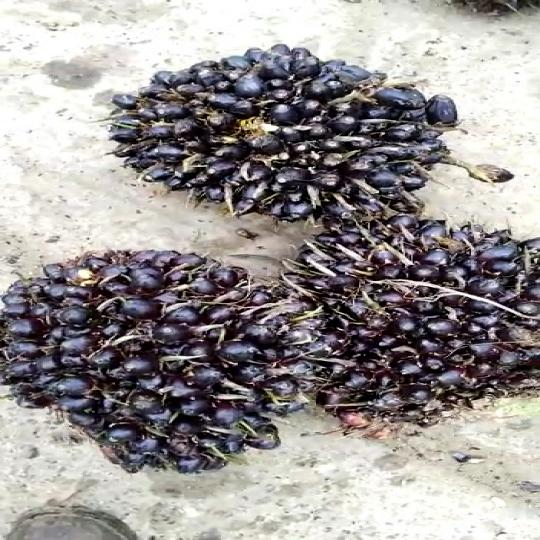mentah: (1, 235, 303, 474), (106, 44, 484, 219), (280, 214, 540, 431)
